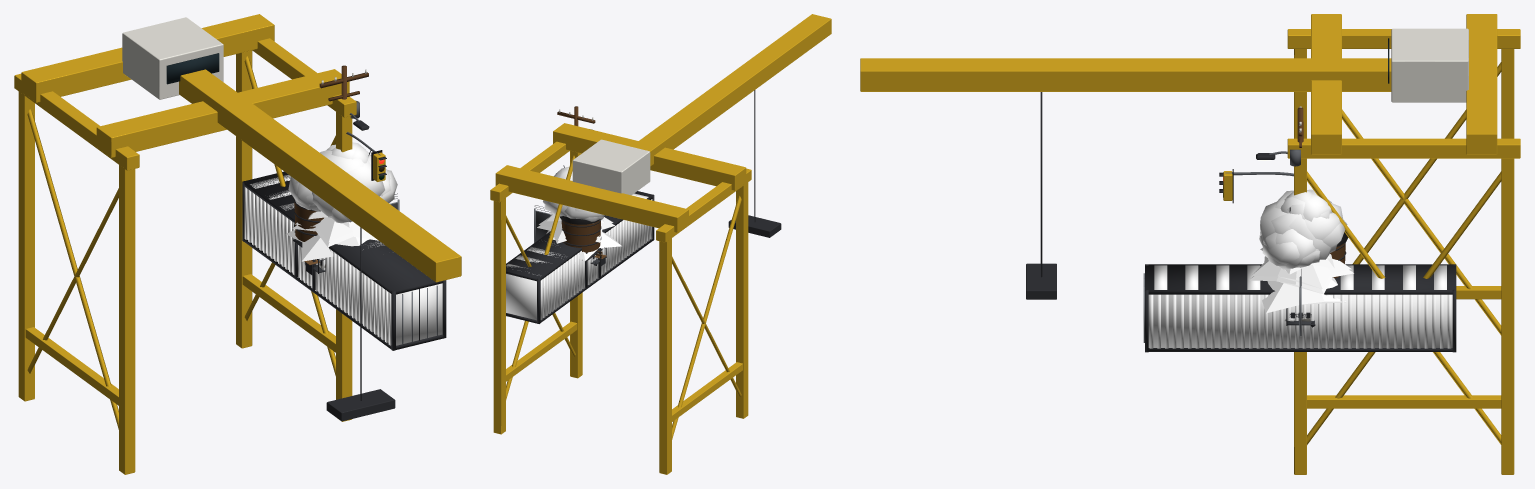
The model's file is env.glb.
3 renders of one model, left to right at view 1: azimuth 30°, elevation 25°; view 2: azimuth 150°, elevation 25°; view 3: azimuth 270°, elevation 25°, orthographic. The views are drawn at different scales.
Visible parts, largest first — view 1: crane, container, pine0, broad1, broad2, water_tank, broad0, power_pole, pine2, trafficlight; view 2: crane, container, water_tank, pine0; view 3: crane, container, pine0, broad1, broad2, broad0, pine2.
Part boxes in pixels (x1=…): crane: x1=14, y1=14, x2=461, y2=474; container: x1=242, y1=171, x2=446, y2=350; pine0: x1=286, y1=211, x2=378, y2=261; broad1: x1=288, y1=144, x2=390, y2=206; broad2: x1=294, y1=146, x2=397, y2=223; water_tank: x1=292, y1=195, x2=323, y2=290; broad0: x1=296, y1=142, x2=394, y2=222; power_pole: x1=319, y1=65, x2=368, y2=118; pine2: x1=295, y1=217, x2=370, y2=241; trafficlight: x1=346, y1=132, x2=386, y2=181; crane: x1=490, y1=14, x2=831, y2=474; container: x1=506, y1=191, x2=654, y2=323; water_tank: x1=560, y1=216, x2=602, y2=287; pine0: x1=537, y1=214, x2=621, y2=260; crane: x1=860, y1=14, x2=1520, y2=474; container: x1=1143, y1=264, x2=1456, y2=352; pine0: x1=1249, y1=248, x2=1353, y2=313; broad1: x1=1260, y1=190, x2=1347, y2=268; broad2: x1=1259, y1=189, x2=1342, y2=269; broad0: x1=1259, y1=191, x2=1345, y2=267; pine2: x1=1251, y1=254, x2=1351, y2=288.
Size of the model in its own units: 13.05 by 15.9 by 25.5.
